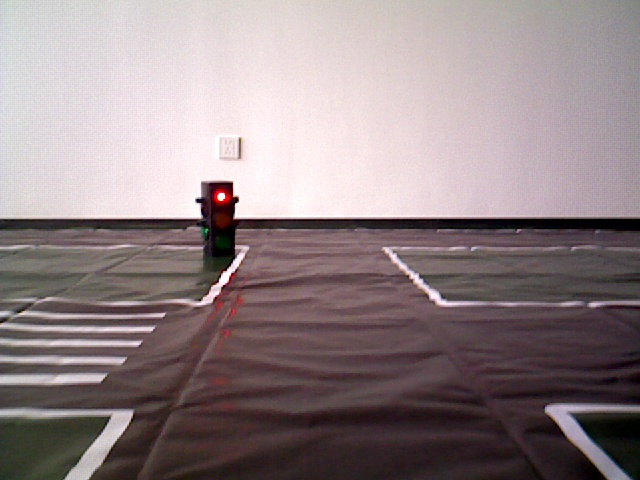red: (200, 181, 232, 257)
